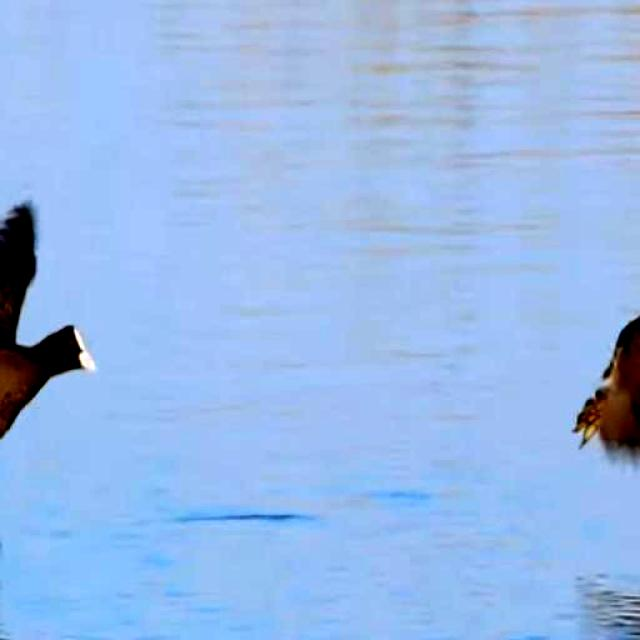airplane: (0, 222, 100, 568), (578, 259, 640, 484)
